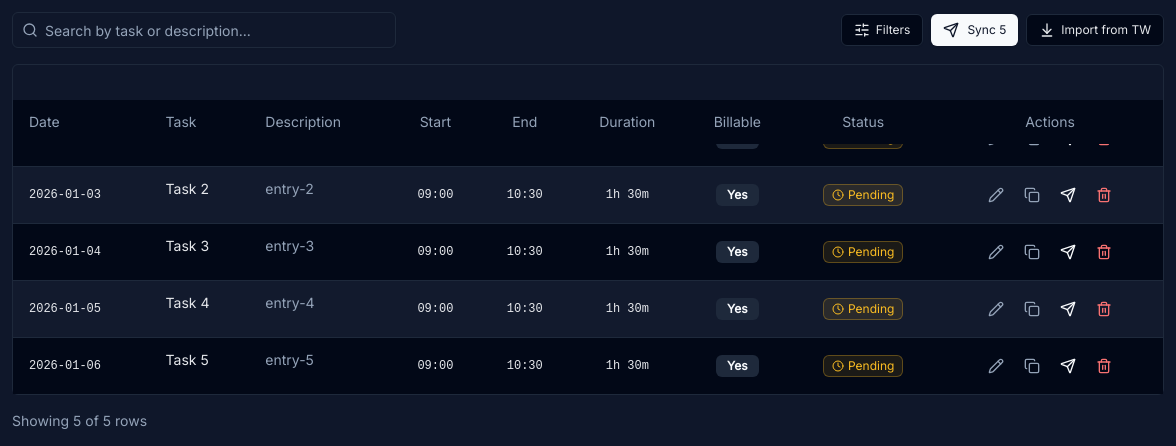
Test: TimeLogsTable infinite scroll (T2) › narrows the rendered rows while searching and restores them when cleared
Type "entry-3" into the field with placeholder "Search by task or description..." at (204, 30), box [12, 12, 396, 48]
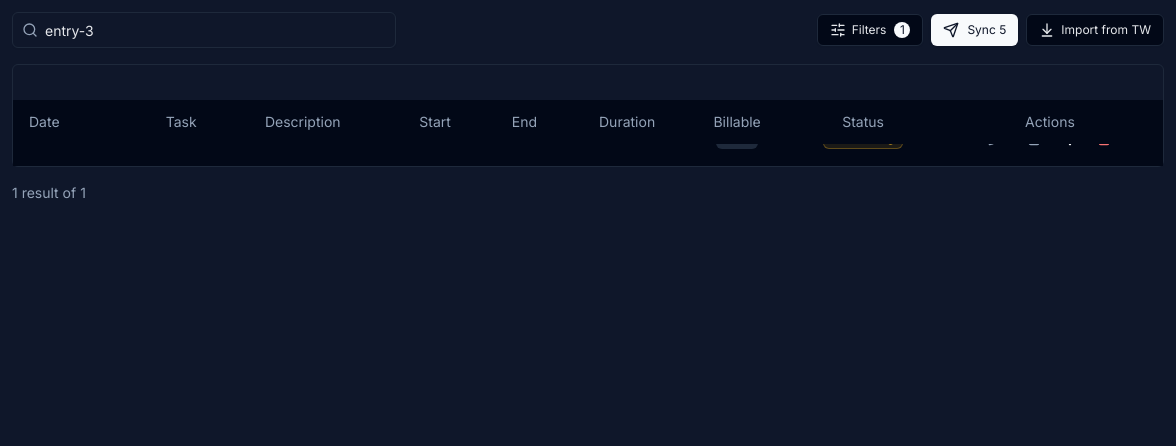
Expected: the text "entry-3" is shown, [265, 123, 314, 140]
Result: the text "entry-1" is gone
Result: the text "entry-5" is gone
Clearing the search restores the full small set.
Clear the field with placeholder "Search by task or description..." at (204, 30), box [12, 12, 396, 48]
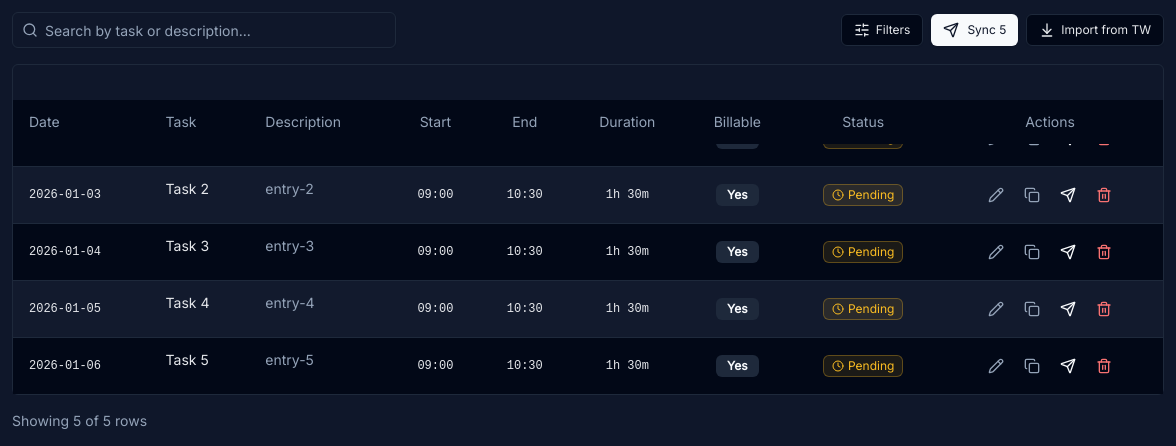
Result: the text "entry-1" is shown at [265, 123, 311, 140]
Result: the text "entry-5" is shown at [265, 351, 314, 368]
